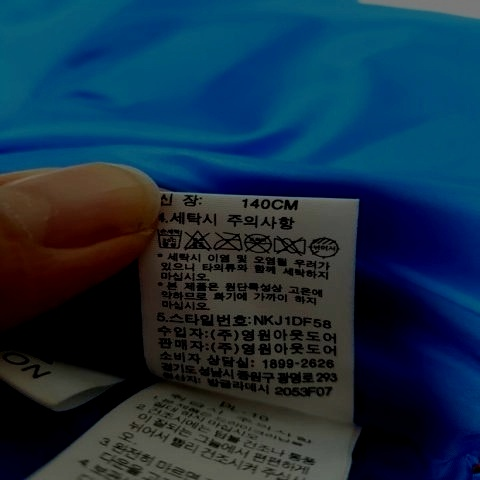30C: (155, 225, 184, 254)
DN_dry_clean: (243, 229, 277, 255)
DN_iron: (211, 225, 247, 253)
DN_wring: (274, 232, 310, 257)
dry_flat_in_shade: (309, 232, 345, 259)
non_chlorine_bleach: (183, 224, 215, 255)
